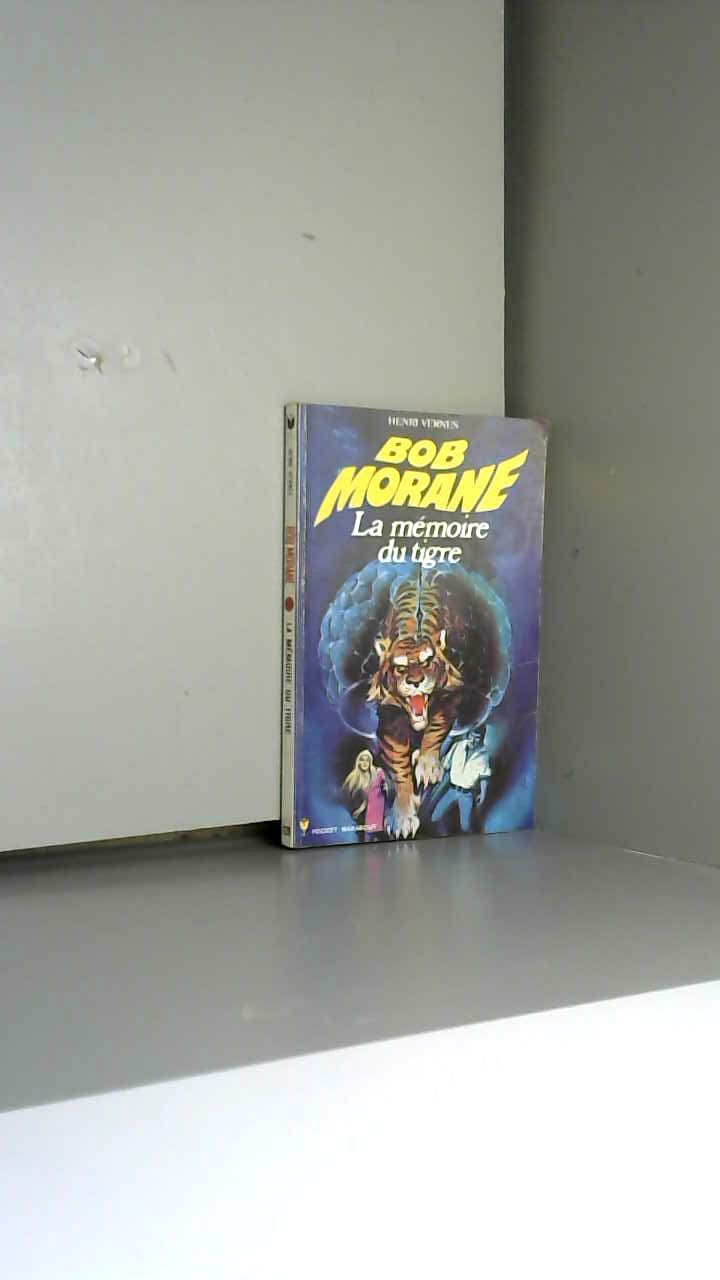book: (242, 361, 589, 883)
